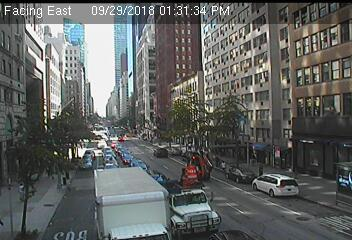car: (92, 168, 173, 240), (153, 180, 222, 240), (253, 174, 300, 198), (223, 166, 254, 184), (181, 151, 200, 164), (128, 160, 148, 171), (79, 157, 93, 169), (154, 148, 169, 158), (103, 163, 119, 172), (122, 154, 135, 164), (103, 158, 118, 166), (82, 151, 95, 160), (169, 148, 181, 156), (104, 155, 114, 159)
